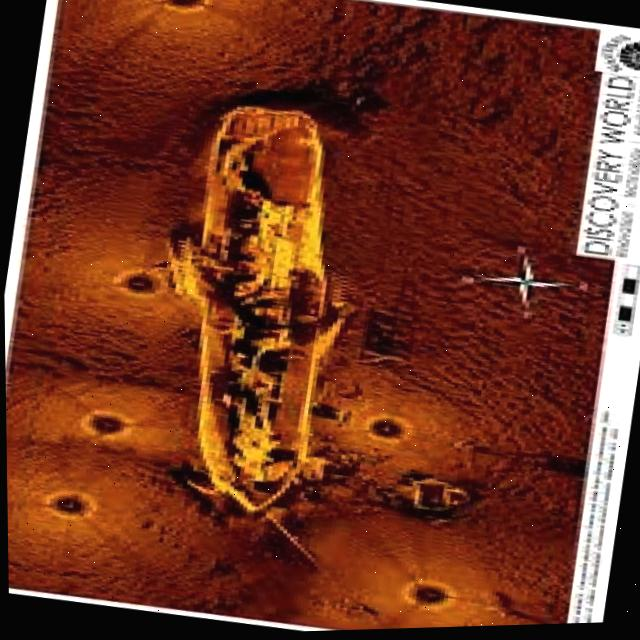shipwreck: (143, 93, 363, 525)
